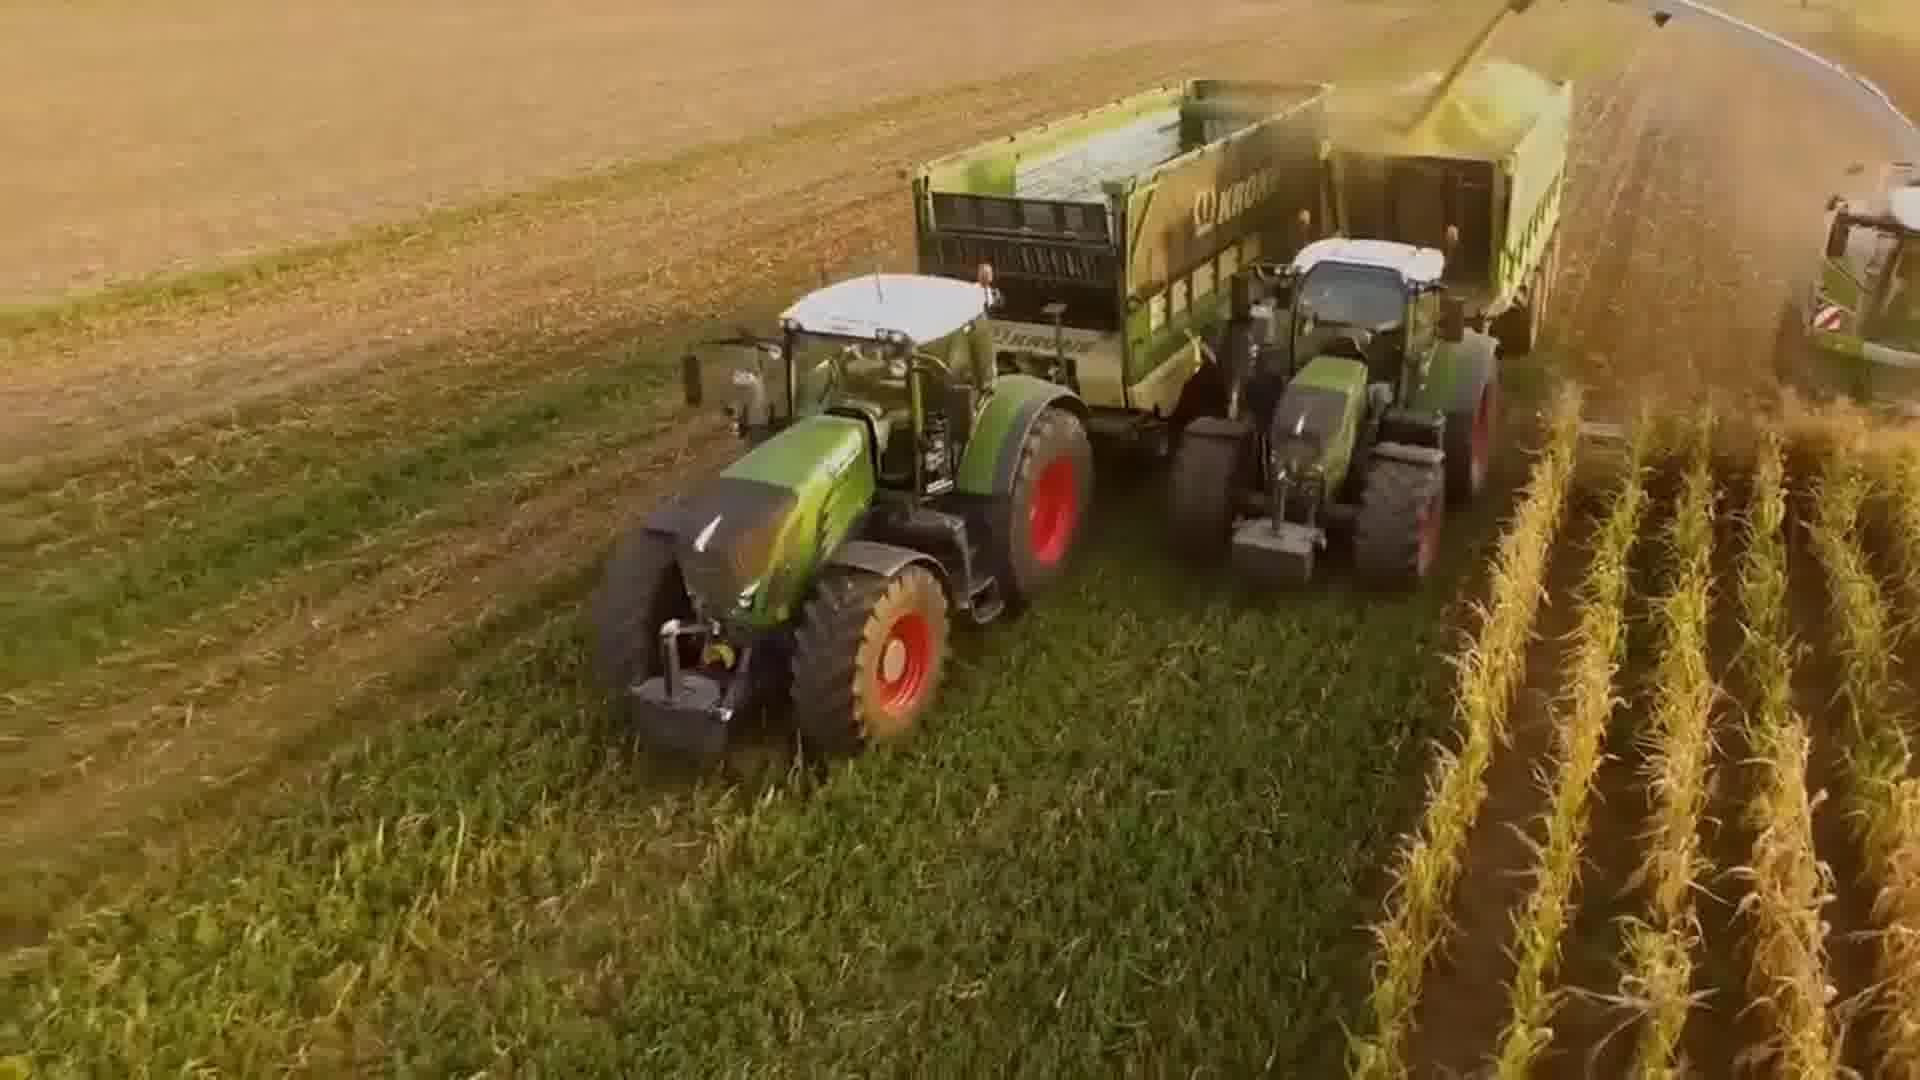combine harvester: (1611, 0, 1920, 429)
tractor: (576, 264, 1095, 775), (1158, 228, 1506, 605)
trailer: (910, 65, 1341, 430), (1315, 51, 1582, 345)
